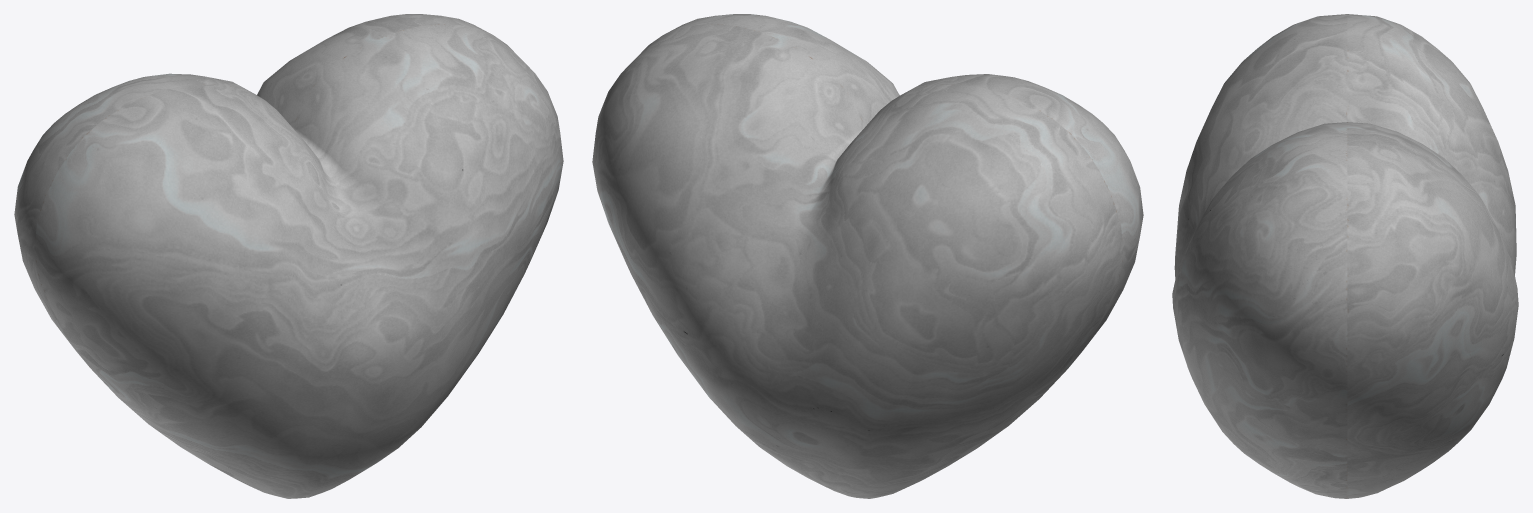
File: heart_v7.glb
3 views of the same model, side by side, from view 1: azimuth 30°, elevation 25°; view 2: azimuth 150°, elevation 25°; view 3: azimuth 270°, elevation 25° (orthographic). The views are drawn at different scales.
Visible parts, largest first — view 1: polySurface7; view 2: polySurface7; view 3: polySurface7.
Boxes of the visible parts, x1=… form: polySurface7: x1=14, y1=14, x2=563, y2=498; polySurface7: x1=592, y1=14, x2=1143, y2=498; polySurface7: x1=1172, y1=14, x2=1518, y2=498.
Bounding box in the file's own units: 4.13 × 3.36 × 2.57.
Materials: 1 (1 with a texture image).
